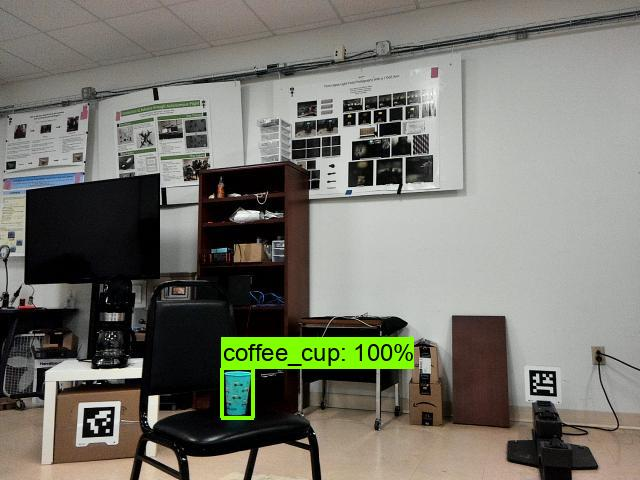coffee_cup: (220, 369, 253, 417)
